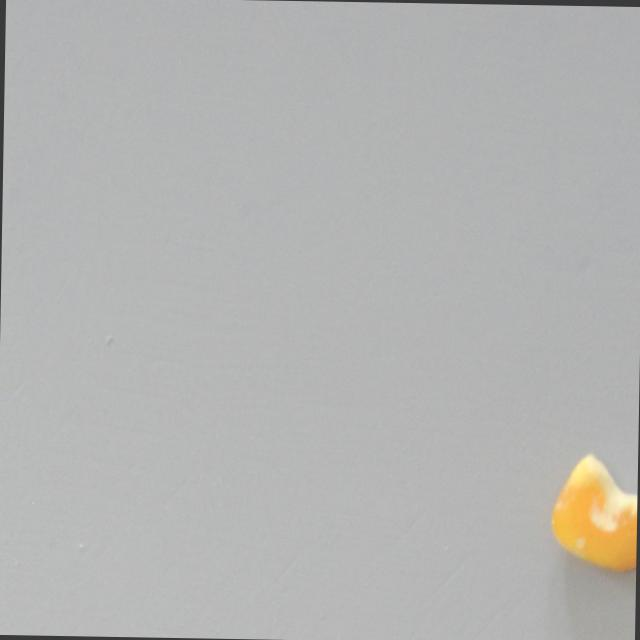pelicula: (544, 449, 638, 576)
